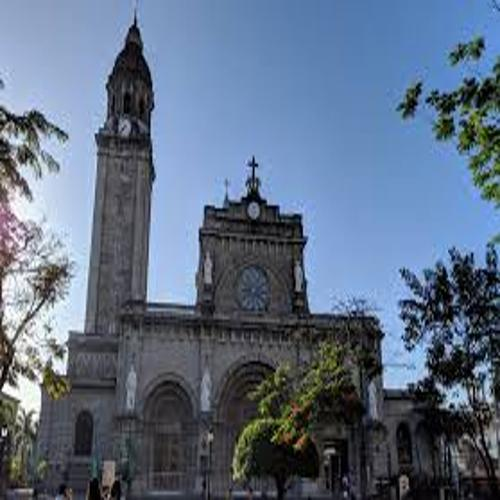Manila Cathedral Church: (40, 3, 390, 500)
